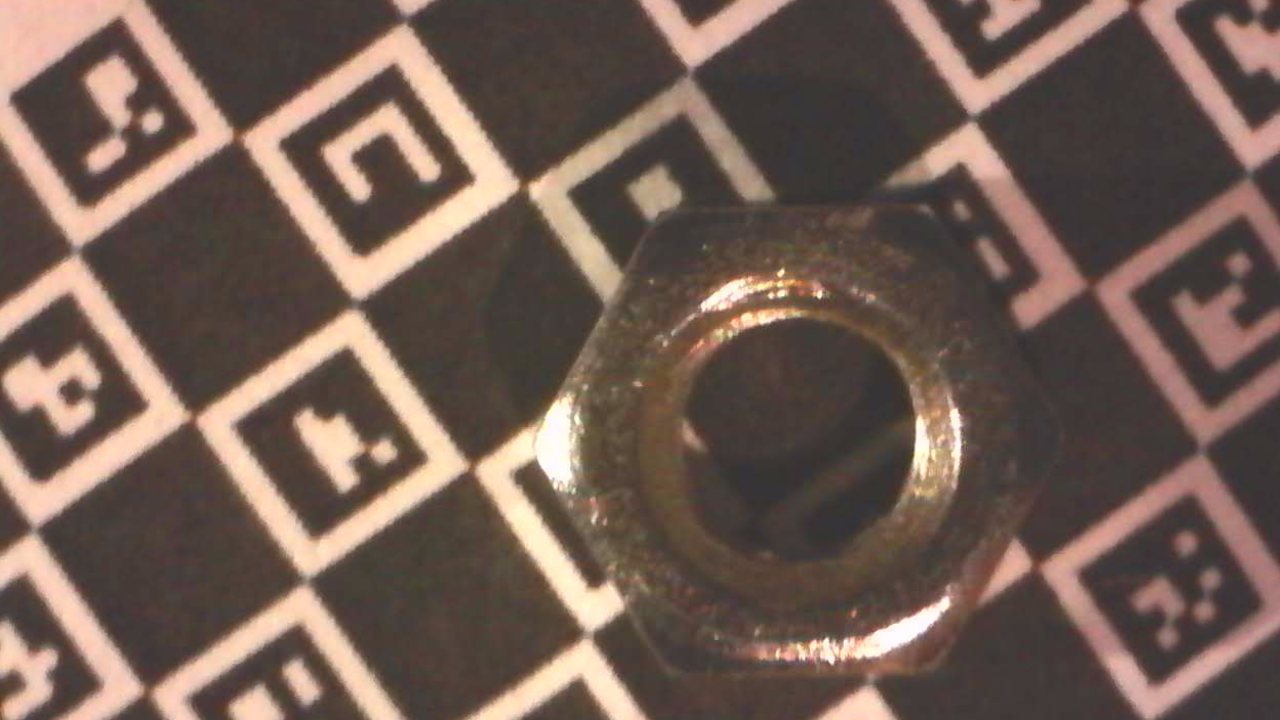Bolt: (526, 204, 1075, 680)
